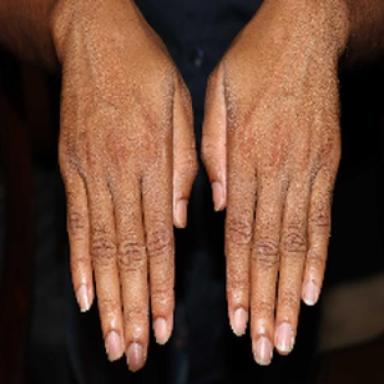normal skin: (53, 0, 197, 371), (203, 0, 349, 365)
